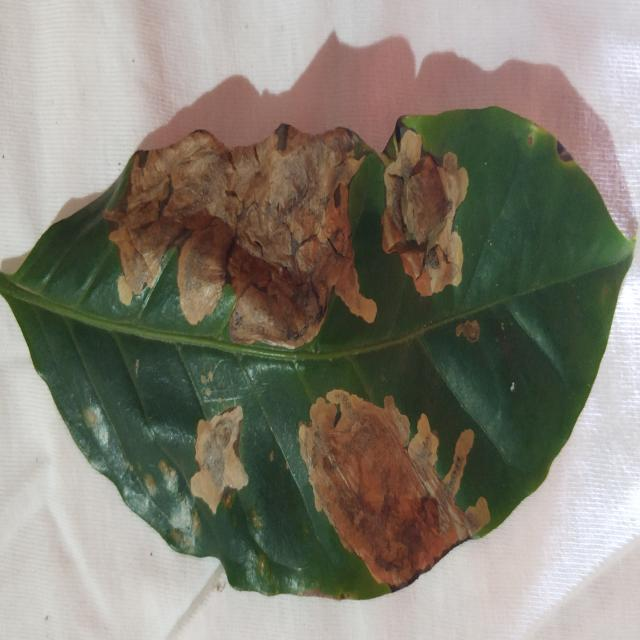Plaga-Minador: (0, 107, 634, 602)
